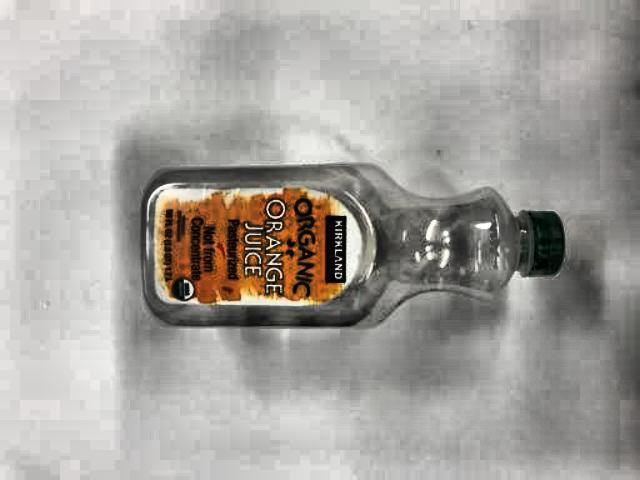Bottles: (97, 151, 587, 337)
